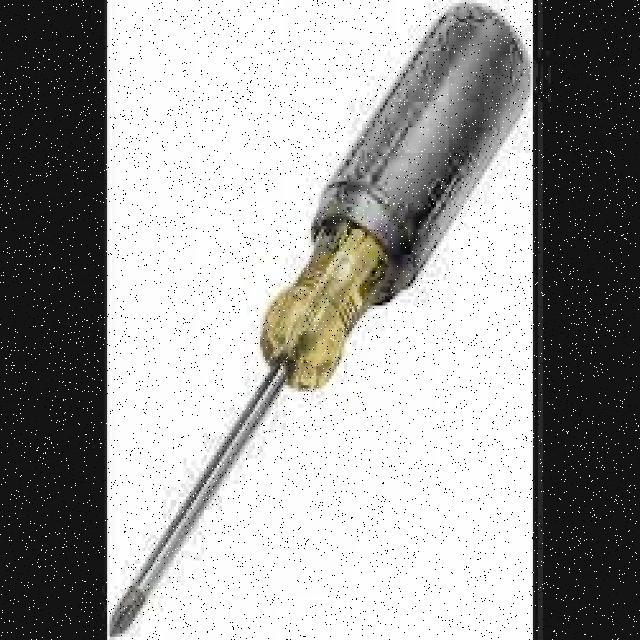screwdriver: (108, 5, 530, 634)
